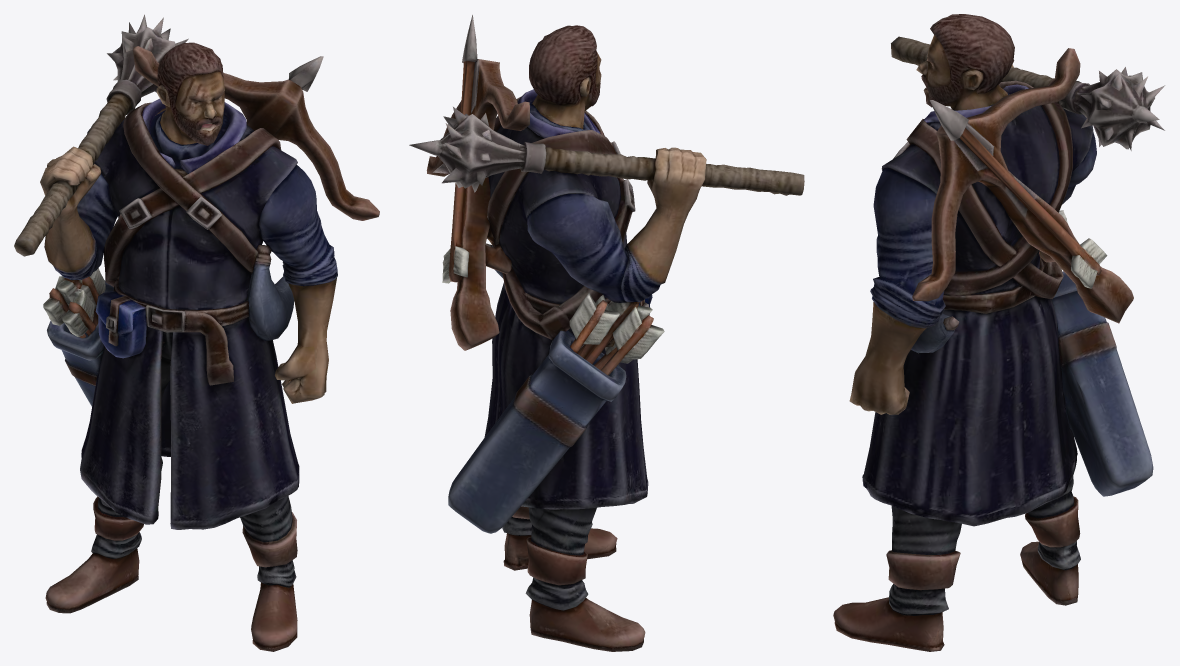
The model's file is MZ4250 - Thug Male 03.glb.
The picture shows the model from 3 angles, left to right: view 1: azimuth 30°, elevation 25°; view 2: azimuth 150°, elevation 25°; view 3: azimuth 270°, elevation 25°; orthographic projection. The views are drawn at different scales.
Parts seen in each view (by area): view 1: ThugMale01; view 2: ThugMale01; view 3: ThugMale01.
Part boxes in pixels (bbox=[...]): ThugMale01: bbox=[14, 14, 379, 651]; ThugMale01: bbox=[409, 15, 804, 651]; ThugMale01: bbox=[833, 14, 1165, 651].
Size of the model in its own units: 0.7428 by 1.08 by 0.5462.
1 material, 1 textured.
